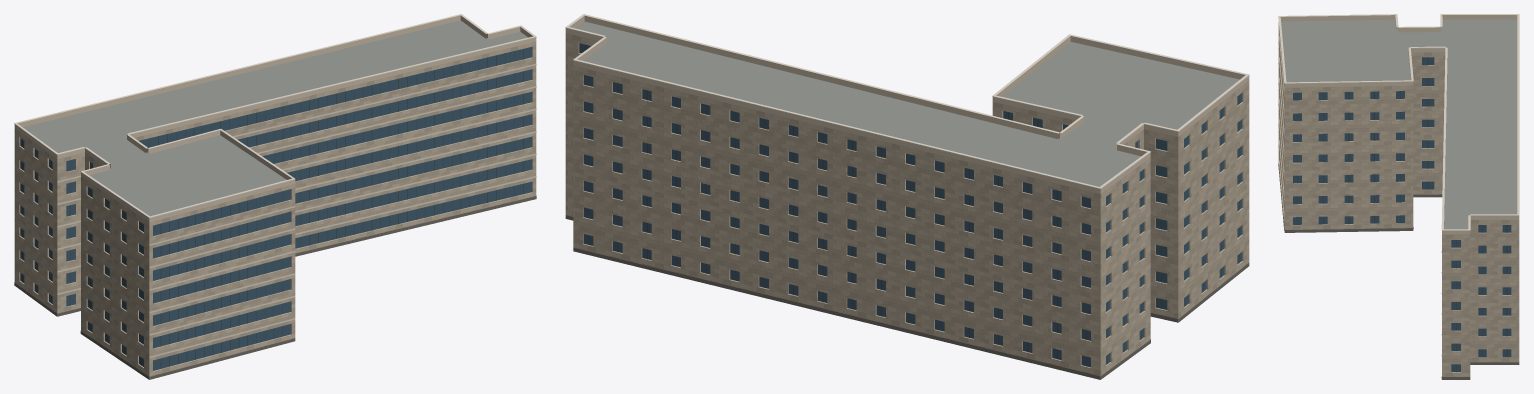
3 views of the same model, side by side, from view 1: azimuth 30°, elevation 25°; view 2: azimuth 150°, elevation 25°; view 3: azimuth 270°, elevation 25° (orthographic). The views are drawn at different scales.
Visible parts, largest first — view 1: architecture__wall, architecture__glass, architecture__roof, architecture__trim, architecture__parapet, architecture__frame, architecture__base; view 2: architecture__wall, architecture__roof, architecture__glass, architecture__parapet, architecture__trim, architecture__base, architecture__frame; view 3: architecture__wall, architecture__roof, architecture__glass, architecture__trim, architecture__parapet, architecture__base, architecture__frame.
Boxes of the visible parts, left/top/right/bottom form: architecture__wall: left=14, top=42, right=536, bottom=379; architecture__glass: left=20, top=47, right=531, bottom=370; architecture__roof: left=23, top=20, right=527, bottom=216; architecture__trim: left=14, top=14, right=536, bottom=357; architecture__parapet: left=14, top=15, right=536, bottom=222; architecture__frame: left=22, top=49, right=523, bottom=368; architecture__base: left=14, top=196, right=536, bottom=379; architecture__wall: left=565, top=33, right=1249, bottom=379; architecture__roof: left=575, top=21, right=1239, bottom=186; architecture__glass: left=579, top=43, right=1241, bottom=367; architecture__parapet: left=565, top=15, right=1249, bottom=194; architecture__trim: left=565, top=14, right=1249, bottom=316; architecture__base: left=565, top=215, right=1249, bottom=379; architecture__frame: left=585, top=45, right=1239, bottom=366; architecture__wall: left=1278, top=23, right=1519, bottom=376; architecture__roof: left=1281, top=19, right=1517, bottom=231; architecture__glass: left=1293, top=57, right=1511, bottom=371; architecture__trim: left=1278, top=14, right=1519, bottom=355; architecture__parapet: left=1280, top=15, right=1519, bottom=234; architecture__base: left=1278, top=164, right=1519, bottom=379; architecture__frame: left=1297, top=57, right=1507, bottom=371.
Size of the model in its own units: 80.59 by 26.02 by 38.
7 materials, 1 textured.
